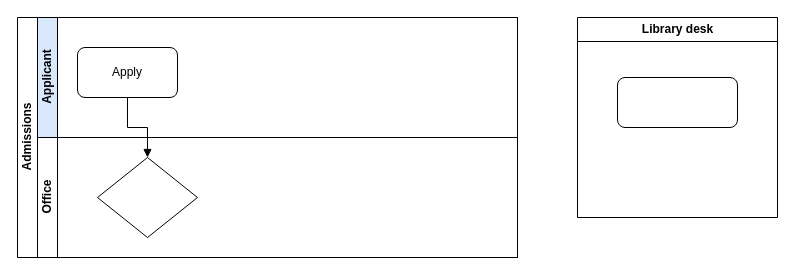
Image size: 795x275. Some labels were removed from this diagram. The centre of each missing label's shape, as x and y in pixels:
"Lend book" goes at (x=677, y=102).
"Review" goes at (x=147, y=197).
